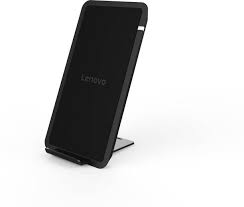lenovo: (42, 1, 150, 170)
